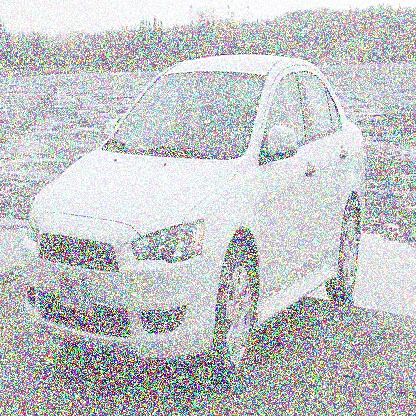Vehicle: (20, 51, 367, 382)
